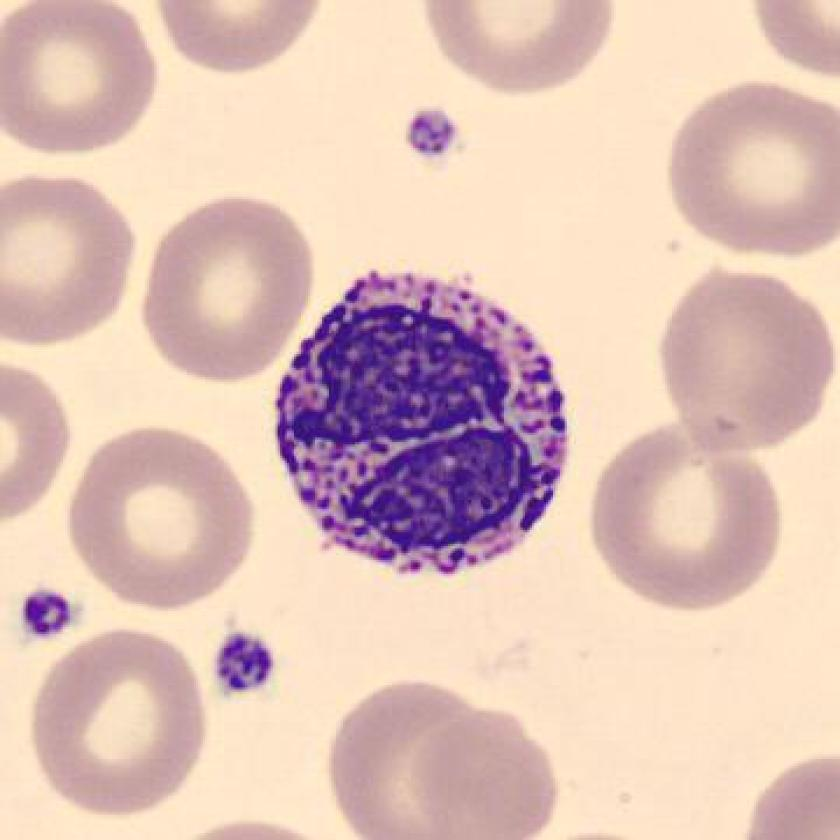basophil: (260, 253, 596, 591)
